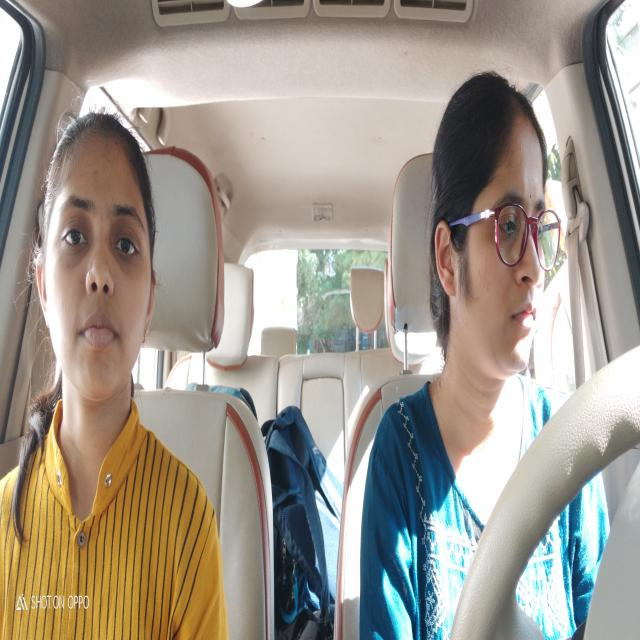LeftRight: (431, 80, 554, 384)
person: (34, 121, 155, 397)
